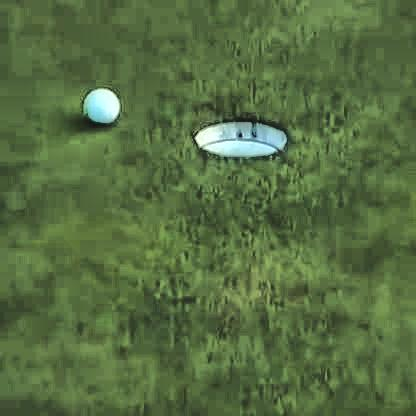golfball: (78, 83, 120, 125)
